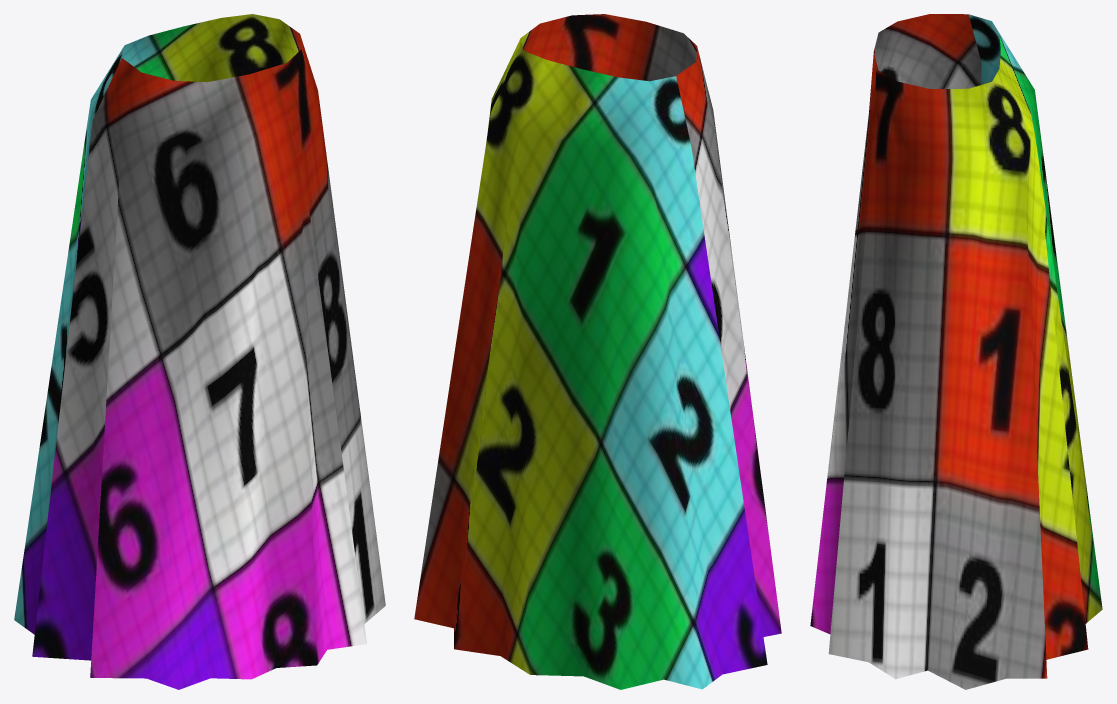
The model's file is 9_Long_Skirt.glb.
3 views of the same model, side by side, from view 1: azimuth 30°, elevation 25°; view 2: azimuth 150°, elevation 25°; view 3: azimuth 270°, elevation 25° (orthographic). The views are drawn at different scales.
Parts seen in each view (by area): view 1: Skirt; view 2: Skirt; view 3: Skirt.
Boxes of the visible parts, bbox=[...] form: Skirt: bbox=[14, 14, 385, 689]; Skirt: bbox=[414, 14, 781, 689]; Skirt: bbox=[810, 14, 1102, 689].
Bounding box in the file's own units: 0.5425 × 0.8776 × 0.4165.
Materials: 1 (1 with a texture image).
